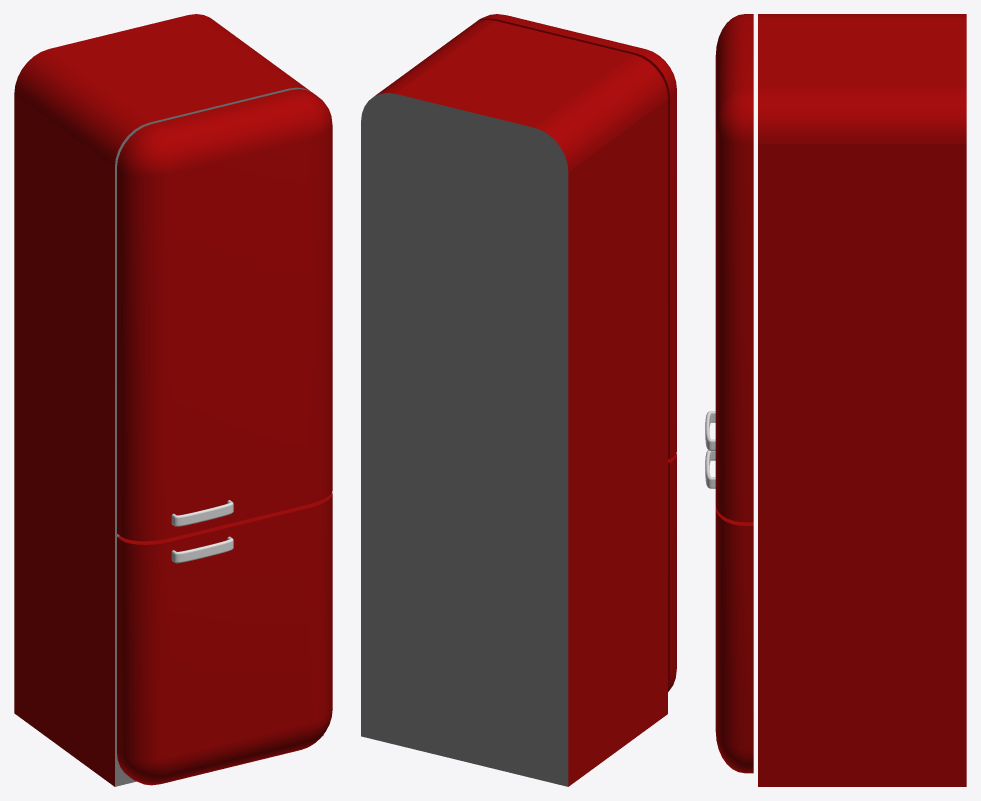
File: sweethome3d-lucapresidente-fridge-42.glb
3 views of the same model, side by side, from view 1: azimuth 30°, elevation 25°; view 2: azimuth 150°, elevation 25°; view 3: azimuth 270°, elevation 25° (orthographic). The views are drawn at different scales.
Visible parts, largest first — view 1: ChamferBox03_3, Rectangle12_4, Rectangle1218_5, Loft12_1, Loft13_2; view 2: Rectangle1218_5, Rectangle12_4, ChamferBox03_3; view 3: Rectangle12_4, ChamferBox03_3.
Part boxes in pixels (<box>): ChamferBox03_3: <box>117,89,332,785</box>; Rectangle12_4: <box>14,14,309,786</box>; Rectangle1218_5: <box>115,87,323,786</box>; Loft12_1: <box>171,536,233,563</box>; Loft13_2: <box>171,500,233,526</box>; Rectangle1218_5: <box>361,93,568,786</box>; Rectangle12_4: <box>375,20,667,786</box>; ChamferBox03_3: <box>475,14,676,691</box>; Rectangle12_4: <box>758,14,966,786</box>; ChamferBox03_3: <box>715,14,753,773</box>.
Bounding box in the file's own units: 60 × 180 × 62.6.
